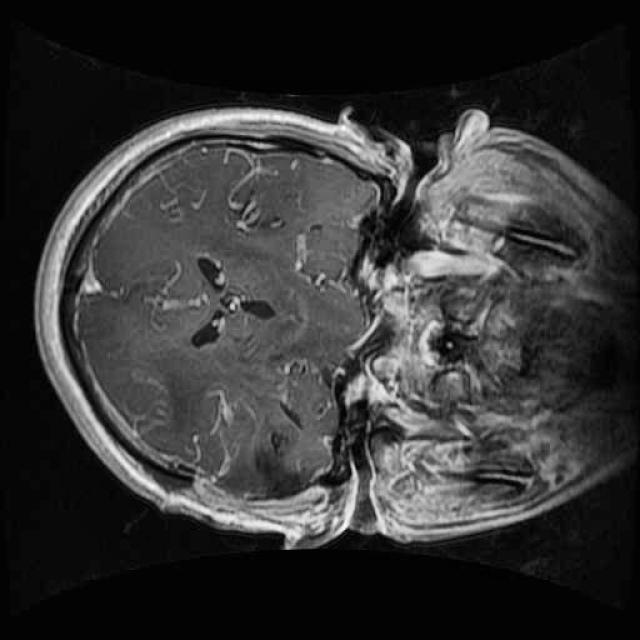Non-Tumor: (224, 416, 339, 514)
